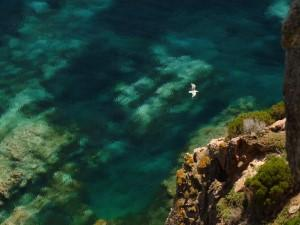bleached_corals: (140, 45, 214, 112), (109, 67, 158, 111), (134, 100, 159, 126), (166, 102, 190, 116)
